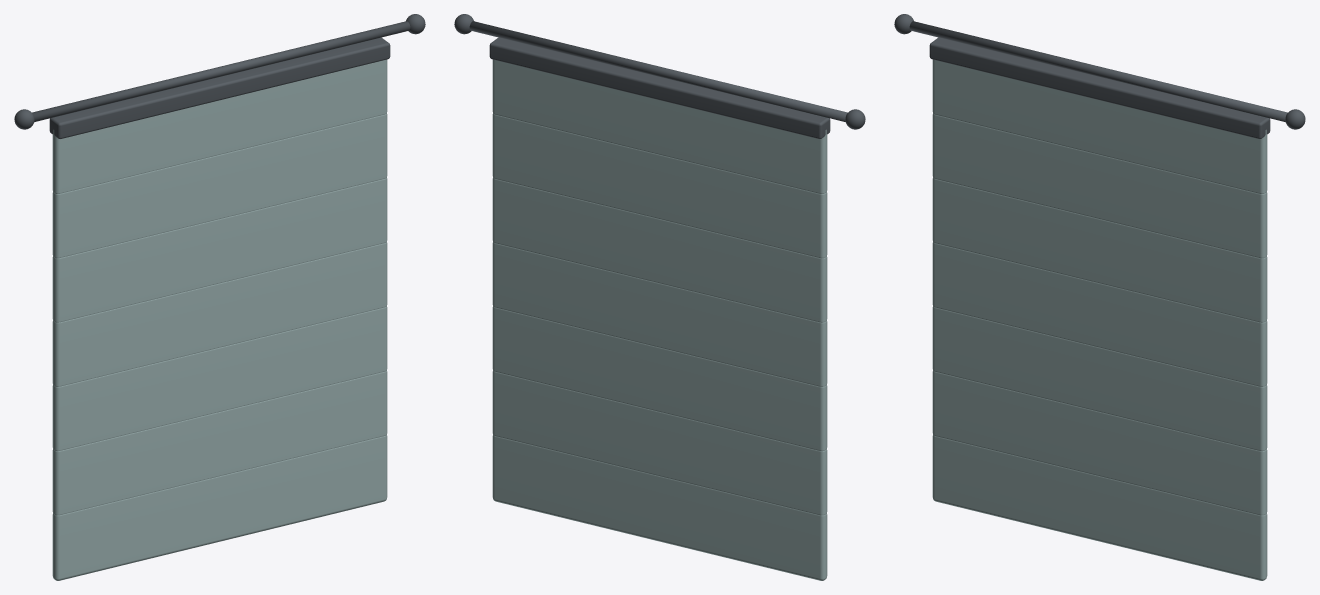
Rendered from atelier-roman-shades.glb.
3 renders of one model, left to right at view 1: azimuth 30°, elevation 25°; view 2: azimuth 150°, elevation 25°; view 3: azimuth 330°, elevation 25°, orthographic.
Parts seen in each view (by area): view 1: fabric.053, metal.053; view 2: fabric.053, metal.053; view 3: fabric.053, metal.053.
Part boxes in pixels (x1,y1,x2,y2): fabric.053: (52,59,387,580); metal.053: (14,14,425,138); fabric.053: (492,59,827,580); metal.053: (454,14,865,138); fabric.053: (932,59,1267,580); metal.053: (894,14,1305,138).
Bounding box in the file's own units: 2.09 × 2.34 × 0.0899.
